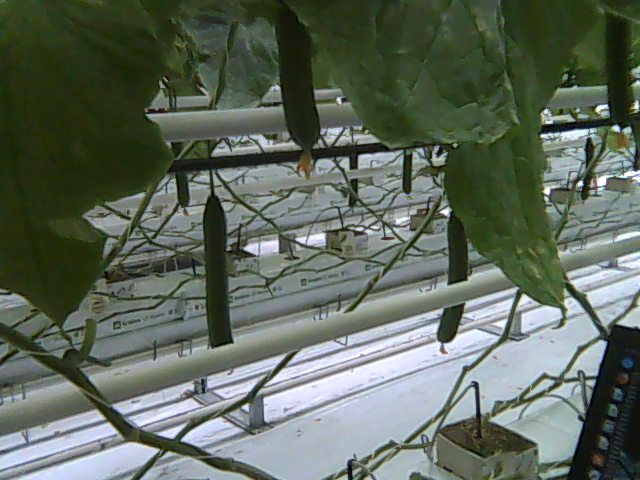concombre: (273, 1, 323, 180)
